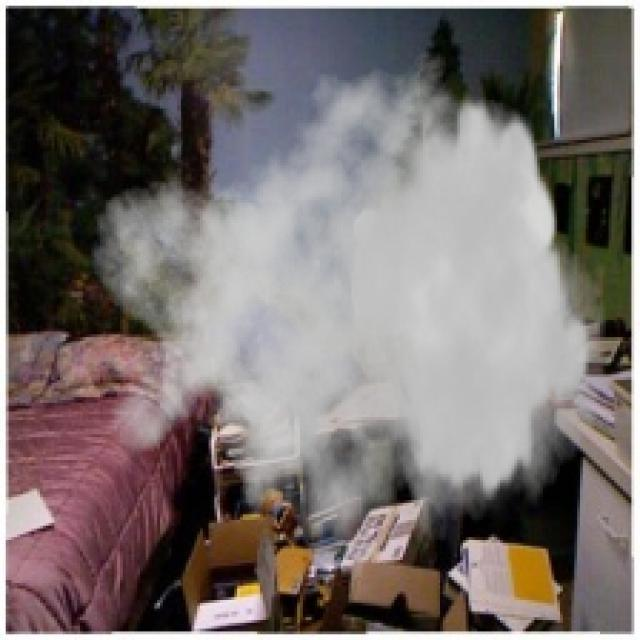Smoke: (89, 43, 608, 606)
